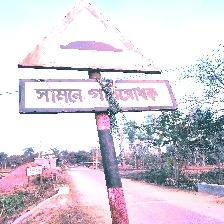Speed-breaker: (17, 1, 181, 114)
